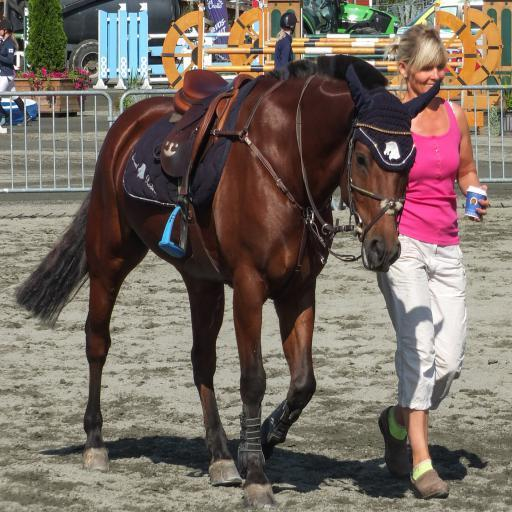horse: (12, 52, 442, 508)
